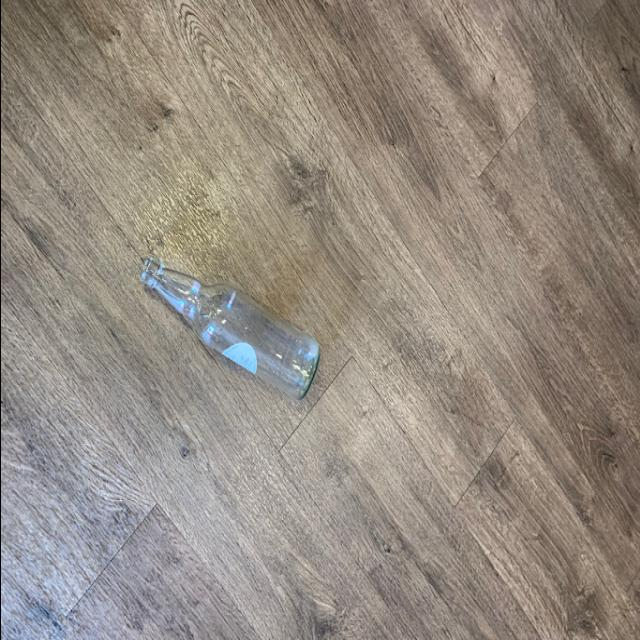litter: (135, 254, 325, 405)
